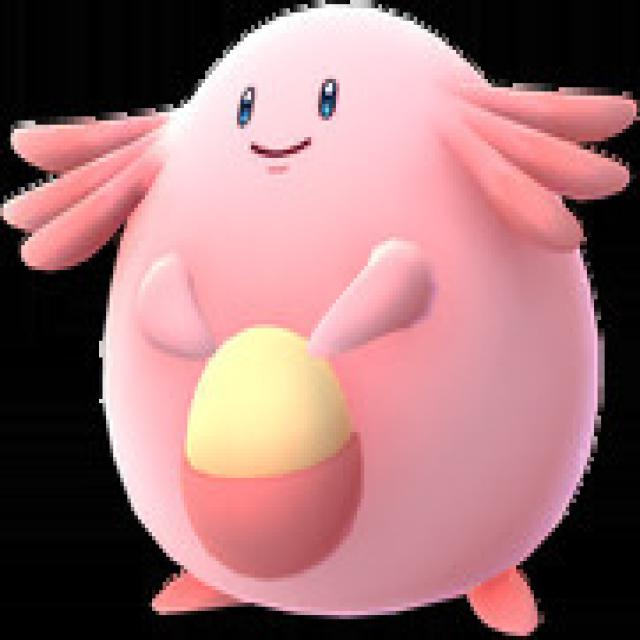Chansey: (87, 0, 608, 608)
